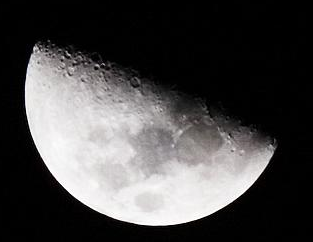crater: (171, 114, 229, 167), (126, 72, 143, 89), (91, 61, 100, 76), (135, 113, 146, 124), (226, 145, 236, 156), (77, 75, 88, 84), (237, 147, 246, 157), (46, 82, 53, 91), (34, 57, 41, 65)
